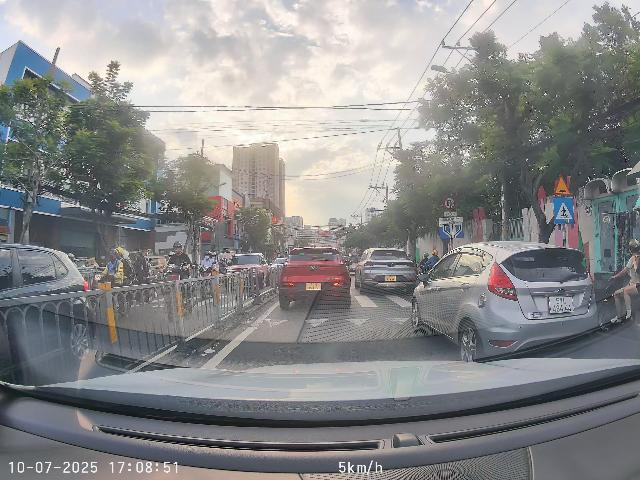124b-cam-oto-quay-dau-xe: (444, 196, 456, 210)
221-duong-go-ghe: (554, 174, 571, 195)
423a-duong-nguoi-di-bo-sang-ngang-1: (553, 197, 574, 224)
